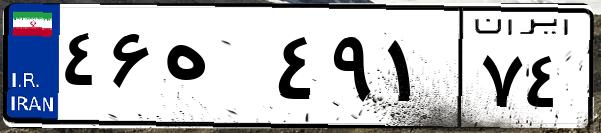1: (385, 28, 445, 110)
4: (270, 28, 330, 110), (57, 26, 110, 100), (525, 38, 570, 115)
6: (110, 28, 158, 98)
7: (475, 38, 525, 113)
9: (330, 28, 385, 110)
ه: (158, 20, 270, 120)
